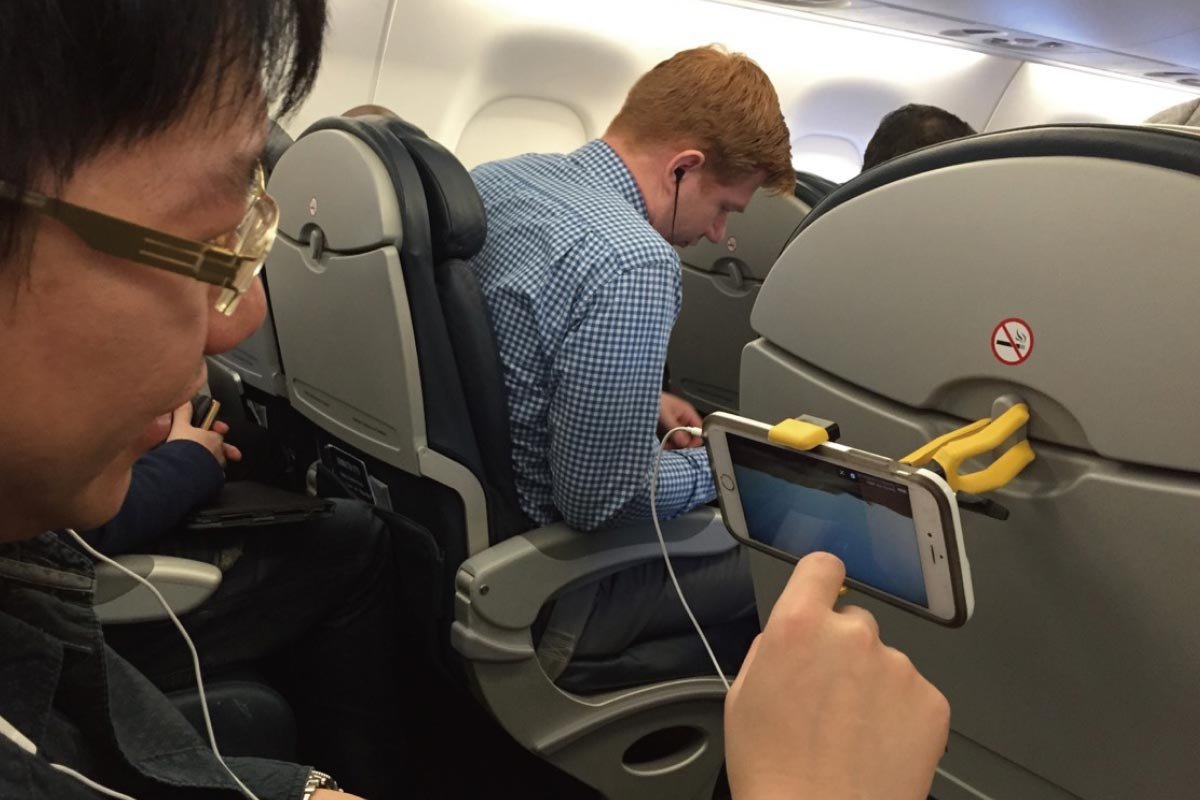smartphone: (700, 411, 976, 630)
